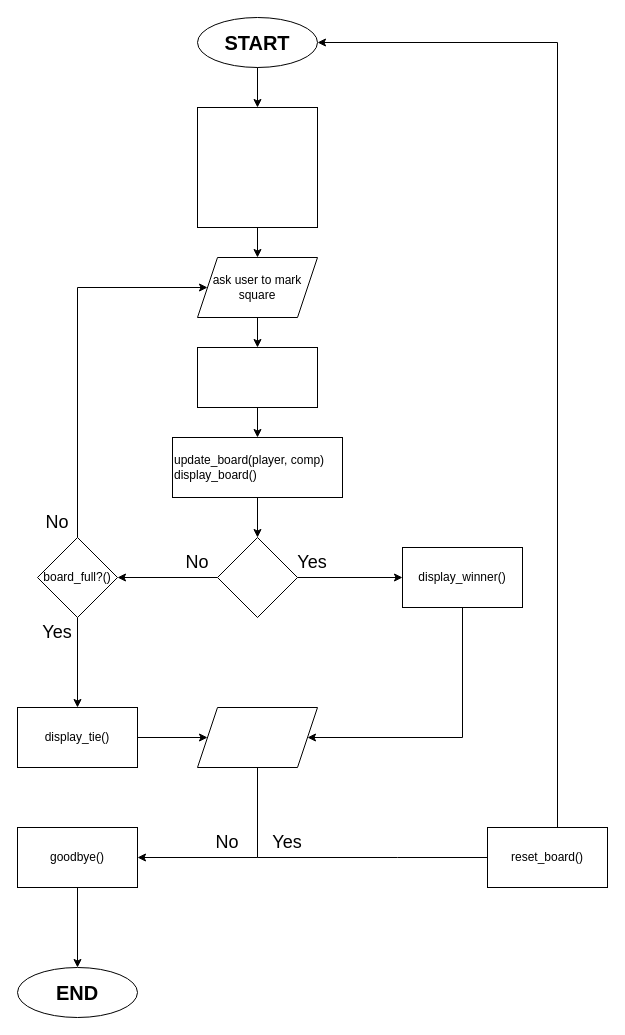
The diagram is 625 pixels wide and 1035 high, and some of its shapes have lost their labels. Each missing label, with the centre of its shape:
"board = [ [nil, nil, nil] [nil, nil, nil] [nil, nil, nil] ] WIN_POSITIONS =" belongs at (257,167).
"computer marks square" belongs at (257,377).
"play_again?" belongs at (257,737).
"win?()" belongs at (257,577).
